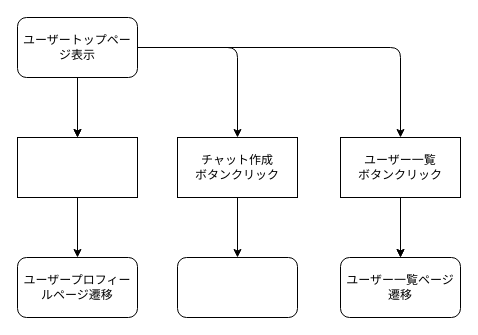
This 478x335 diagram has some shape labels left out. The shapes that lost their labels are listed below. From the top down, each one's centre as x and y in pixels, then its label:
the point at 77,167: ユーザープロフィールボタンクリック
the point at 237,287: チャットルーム作成ページ遷移
